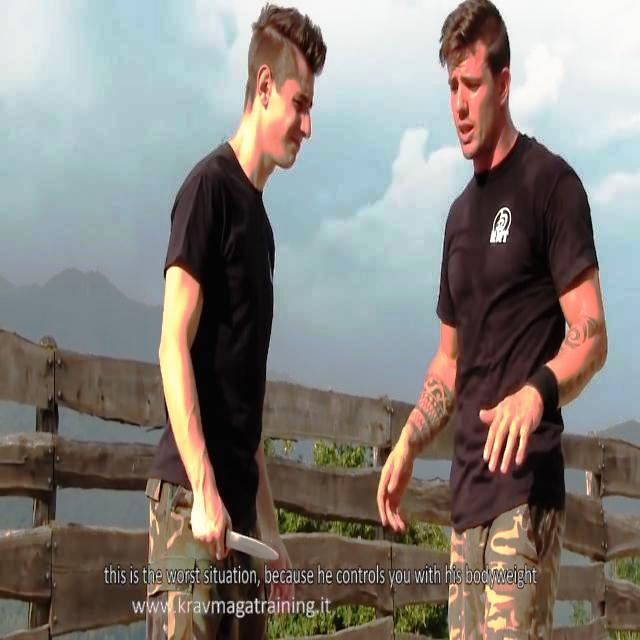Knife: (228, 527, 282, 564)
